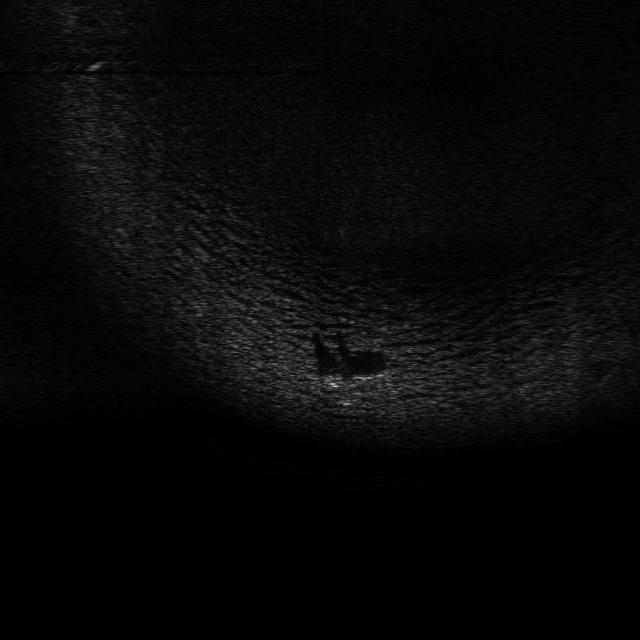plane: (314, 368, 384, 392)
